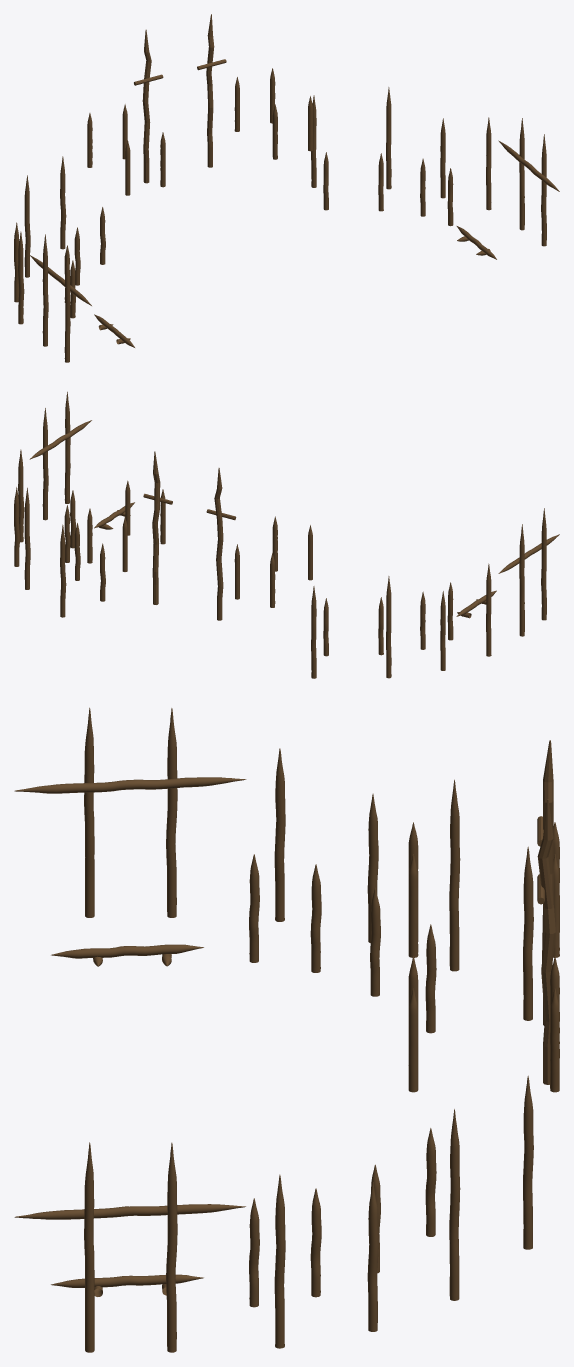
File: pic_bois.fbx
3 views of the same model, one above another, from view 1: azimuth 30°, elevation 25°; view 2: azimuth 150°, elevation 25°; view 3: azimuth 270°, elevation 25° (orthographic). The views are drawn at different scales.
Parts seen in each view (by area): view 1: Cylinder, Cylinder.006, Cylinder.005, Cylinder.012, Cylinder.008, Cylinder.013, Cylinder.001, Cylinder.002, Cylinder.010, Cylinder.007, Cylinder.011, Cylinder.009 (+3 smaller); view 2: Cylinder, Cylinder.006, Cylinder.005, Cylinder.012, Cylinder.013, Cylinder.008, Cylinder.002, Cylinder.001, Cylinder.010, Cylinder.007, Cylinder.009, Cylinder.014 (+3 smaller); view 3: Cylinder, Cylinder.005, Cylinder.007, Cylinder.006, Cylinder.012, Cylinder.008, Cylinder.013, Cylinder.002, Cylinder.010, Cylinder.018, Cylinder.009, Cylinder.014 (+3 smaller).
Boxes of the visible parts, <box> form: Cylinder: <box>87,68,312,195</box>; Cylinder.006: <box>64,134,546,362</box>; Cylinder.005: <box>42,118,524,346</box>; Cylinder.012: <box>24,87,391,277</box>; Cylinder.008: <box>18,117,491,324</box>; Cylinder.013: <box>60,95,316,249</box>; Cylinder.001: <box>142,29,151,183</box>; Cylinder.002: <box>206,14,214,167</box>; Cylinder.010: <box>14,118,445,302</box>; Cylinder.007: <box>29,140,559,305</box>; Cylinder.011: <box>74,153,383,285</box>; Cylinder.009: <box>100,152,328,264</box>; Cylinder: <box>87,480,312,607</box>; Cylinder.006: <box>64,391,546,620</box>; Cylinder.005: <box>42,408,524,636</box>; Cylinder.012: <box>24,487,391,678</box>; Cylinder.013: <box>60,524,316,678</box>; Cylinder.008: <box>18,449,491,656</box>; Cylinder.002: <box>152,451,160,604</box>; Cylinder.001: <box>214,468,223,620</box>; Cylinder.010: <box>14,487,445,670</box>; Cylinder.007: <box>29,420,559,573</box>; Cylinder.009: <box>100,543,328,656</box>; Cylinder.014: <box>64,505,425,649</box>; Cylinder: <box>408,822,559,1092</box>; Cylinder.005: <box>166,708,177,1352</box>; Cylinder.007: <box>14,777,246,1219</box>; Cylinder.006: <box>84,707,94,1352</box>; Cylinder.012: <box>449,779,460,1300</box>; Cylinder.008: <box>274,748,285,1348</box>; Cylinder.013: <box>523,846,533,1249</box>; Cylinder.002: <box>537,799,555,1084</box>; Cylinder.010: <box>367,793,378,1331</box>; Cylinder.018: <box>51,944,203,1287</box>; Cylinder.009: <box>425,924,436,1236</box>; Cylinder.014: <box>310,864,321,1297</box>.
Bounding box in the file's own units: 4085 × 1571 × 2149.
